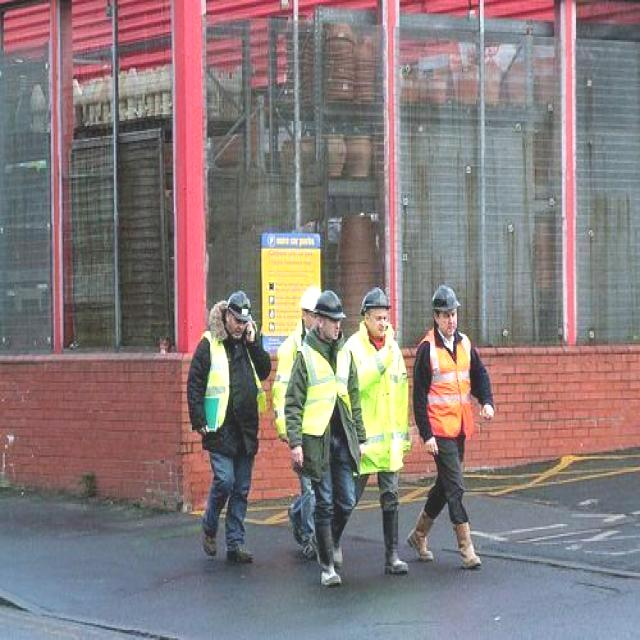boots: (404, 509, 442, 562), (451, 520, 484, 572)
face_mask: (366, 308, 390, 342), (435, 308, 462, 333), (228, 315, 250, 342), (324, 314, 344, 340)
hand_noglove: (286, 442, 308, 465), (476, 401, 498, 422), (422, 436, 444, 455)
head_helmet: (426, 283, 468, 314), (310, 289, 348, 322), (223, 289, 255, 321), (358, 285, 391, 314)
shoes: (223, 535, 257, 568), (380, 545, 413, 578), (314, 558, 346, 589), (197, 523, 218, 558)
vest: (416, 329, 487, 446), (291, 330, 362, 446), (196, 329, 267, 433)
